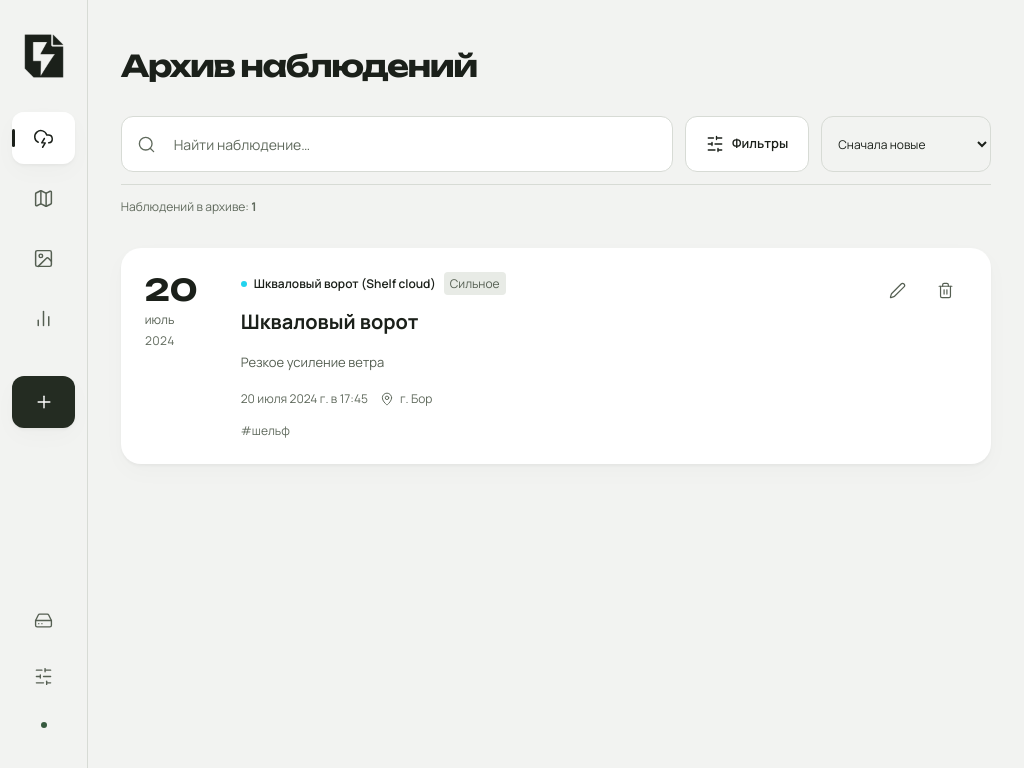
Test: viewing, editing and deleting › persists an edit and reflects it in the archive
This screenshot has width=1024, height=768.
Click the button named "Редактировать". click: (897, 290)
box: [875,268,919,312]
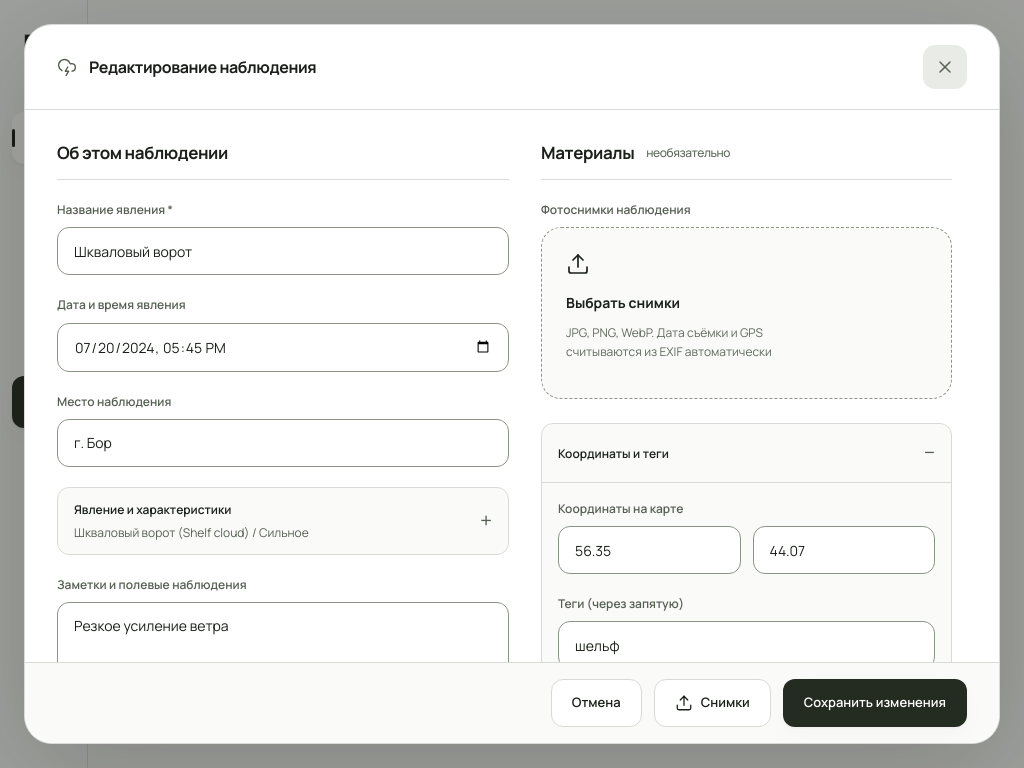
Replace the text in the field labelled "Название явления *" with "Шкваловый ворот (уточнено)". click: (283, 251)
box: [57,227,509,275]
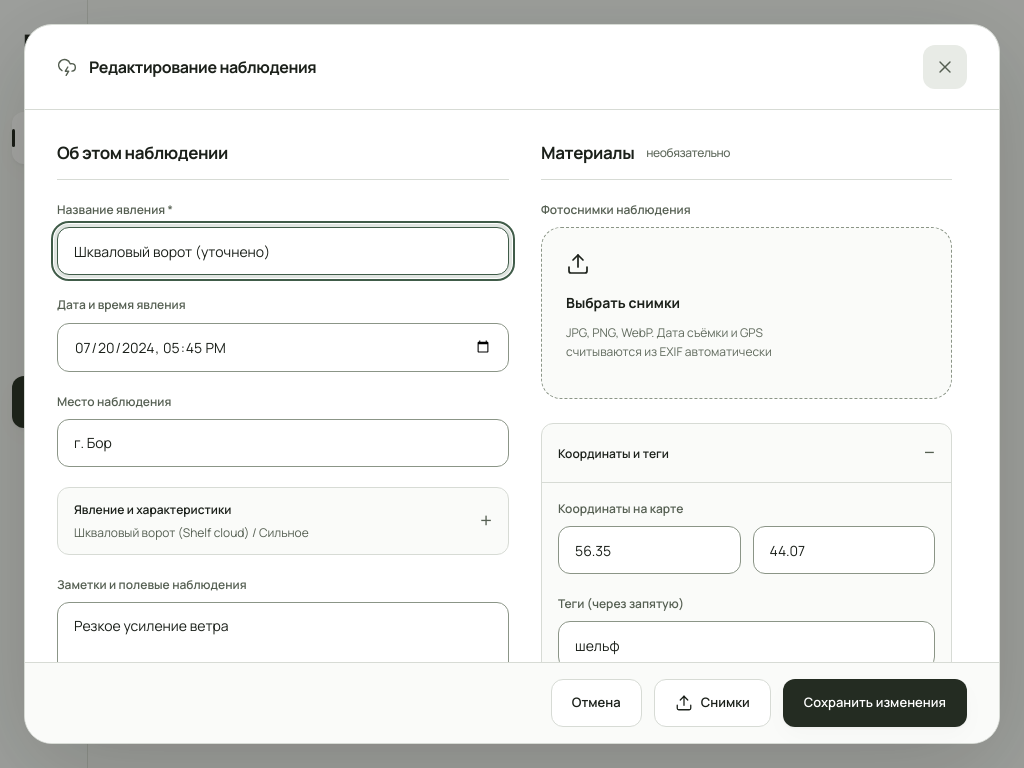
Click the button "Сохранить изменения". click: (875, 703)
box: [783,679,967,727]
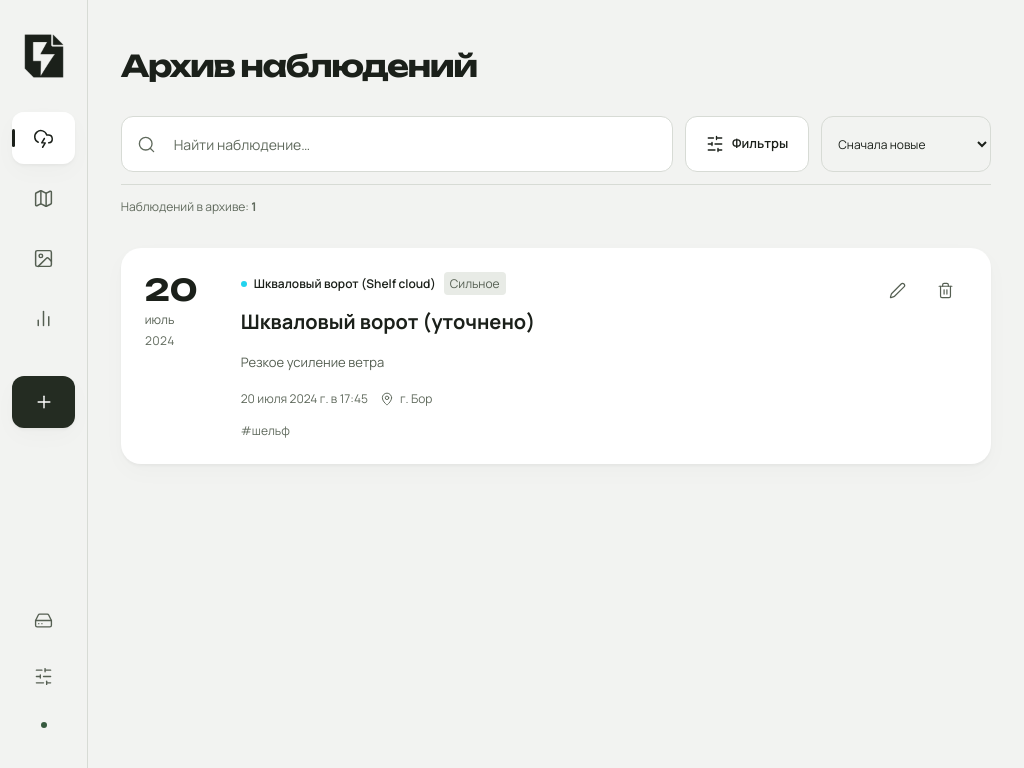
Now the button "Шкваловый ворот (уточнено)" is shown, box [241,299,535,343]
